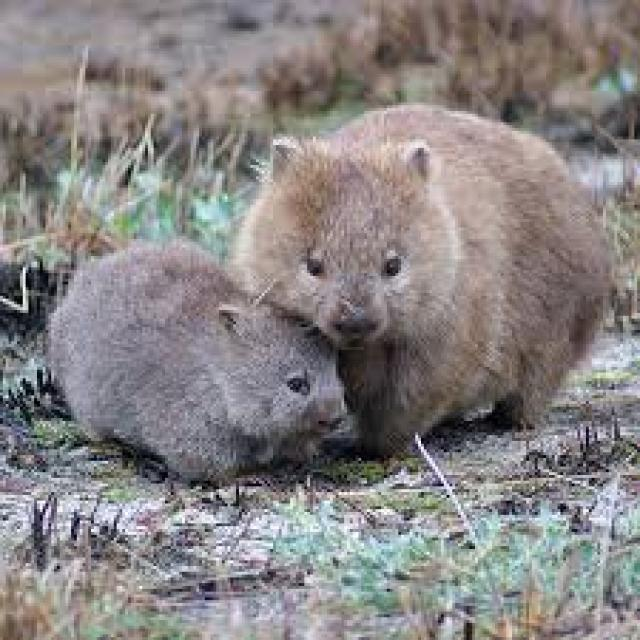Wombat: (240, 96, 612, 456), (39, 234, 351, 493)
